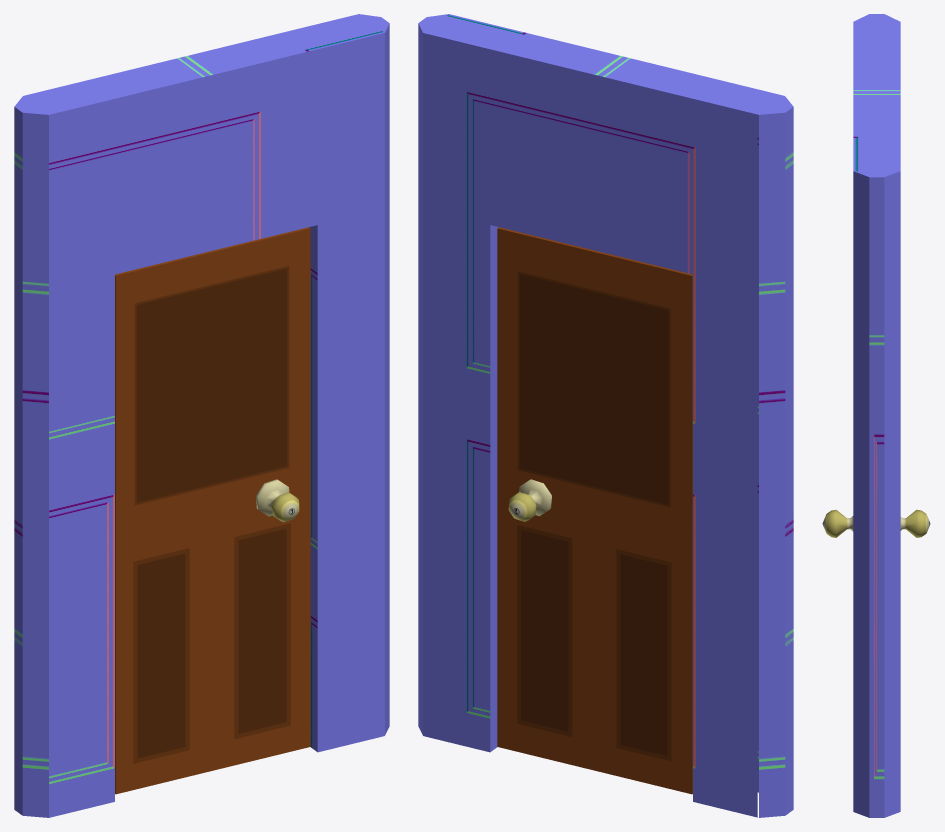
The model's file is door.fbx.
The picture shows the model from 3 angles, left to right: view 1: azimuth 30°, elevation 25°; view 2: azimuth 150°, elevation 25°; view 3: azimuth 270°, elevation 25°; orthographic projection. The views are drawn at different scales.
Visible parts, largest first — view 1: Cube.001, Cube.002, Sphere.002; view 2: Cube.001, Cube.002, Sphere.000; view 3: Cube.001, Sphere.002, Sphere.000.
Boxes of the visible parts, box(x1,y1,x2,y2) form: Cube.001: box(14, 14, 389, 817); Cube.002: box(115, 227, 310, 794); Sphere.002: box(256, 479, 299, 522); Cube.001: box(418, 14, 793, 817); Cube.002: box(497, 227, 692, 794); Sphere.000: box(508, 479, 551, 521); Cube.001: box(853, 14, 900, 817); Sphere.002: box(822, 509, 853, 537); Sphere.000: box(900, 509, 930, 537).
Size of the model in its own units: 219 by 400 by 61.19.
Materials: 3 (3 with a texture image).
